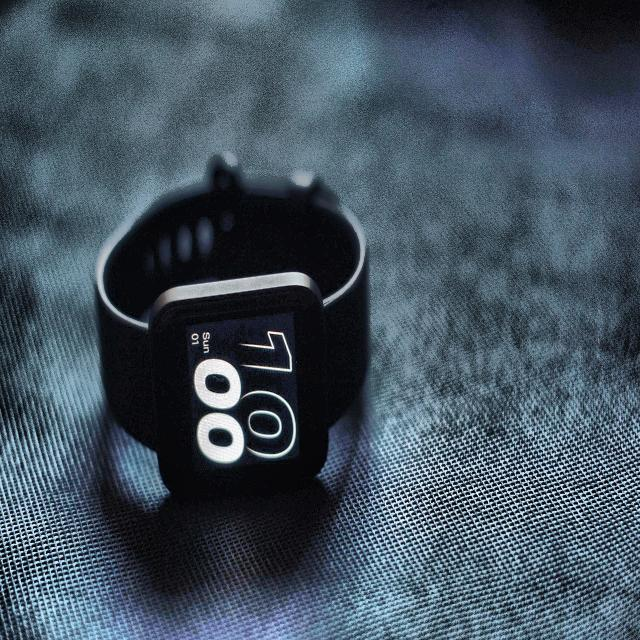Electronic watch: (97, 164, 367, 494)
